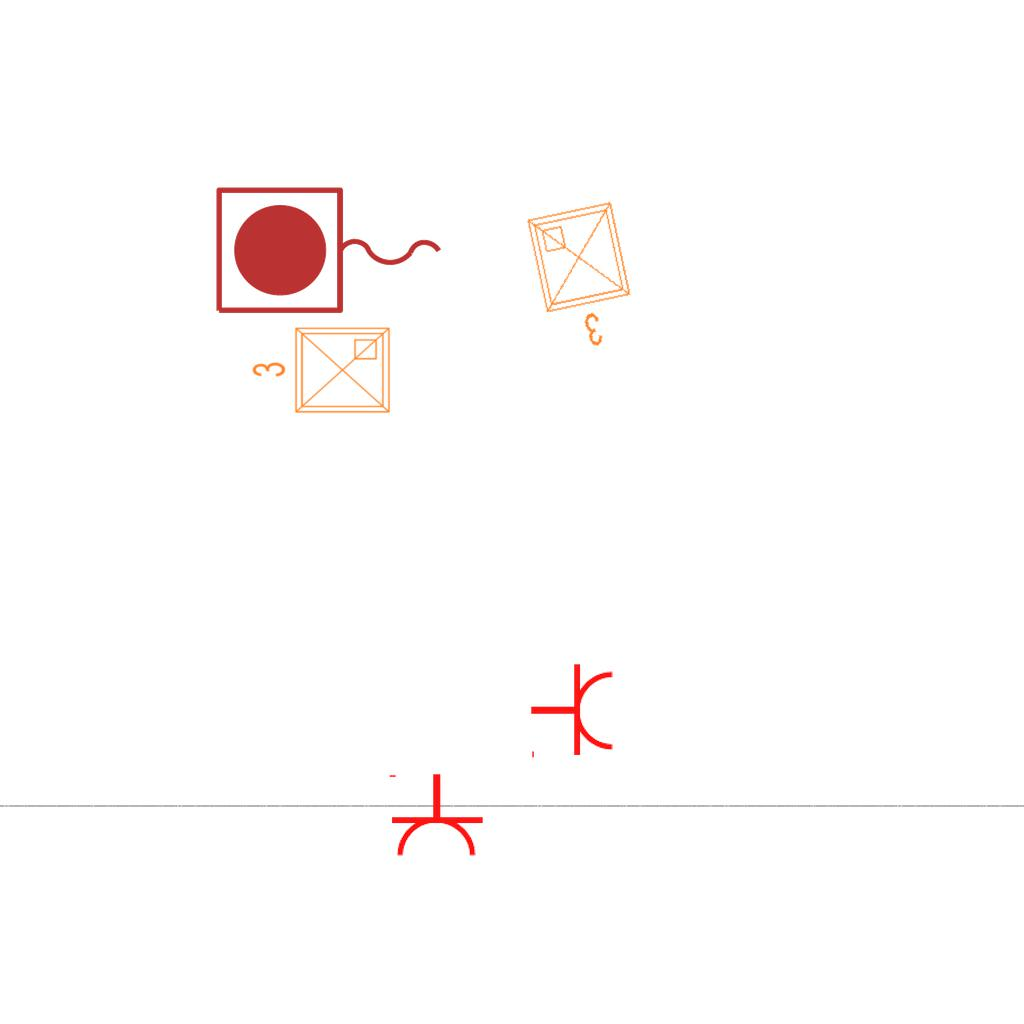Einbaudownlights_LED_Konferenzraeume: (518, 192, 652, 362), (247, 320, 397, 424)
Schukosteckdose_einfach: (385, 772, 485, 859), (529, 662, 616, 762)
Zugtaster: (208, 180, 452, 324)
